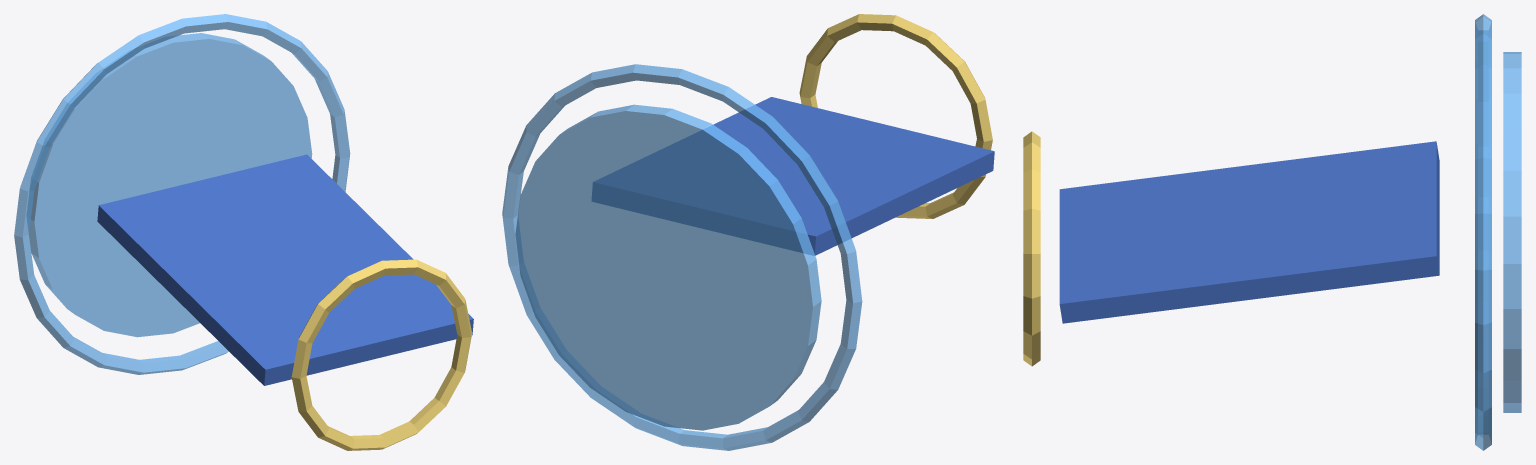
Rendered from armor_pickup_cape_rare.glb.
3 views of the same model, side by side, from view 1: azimuth 30°, elevation 25°; view 2: azimuth 150°, elevation 25°; view 3: azimuth 270°, elevation 25° (orthographic). The views are drawn at different scales.
Parts seen in each view (by area): view 1: cape_cloth, rarity_base_disc, rarity_orbit_ring, neck_ring; view 2: rarity_base_disc, cape_cloth, rarity_orbit_ring, neck_ring; view 3: cape_cloth, rarity_orbit_ring, rarity_base_disc, neck_ring.
Boxes of the visible parts, <box> form: cape_cloth: <box>97,154,473,385</box>; rarity_base_disc: <box>27,33,312,337</box>; rarity_orbit_ring: <box>14,14,350,374</box>; neck_ring: <box>291,259,471,450</box>; rarity_base_disc: <box>515,104,821,430</box>; cape_cloth: <box>592,97,994,255</box>; rarity_orbit_ring: <box>502,64,862,450</box>; neck_ring: <box>799,14,992,218</box>; cape_cloth: <box>1059,141,1439,323</box>; rarity_orbit_ring: <box>1475,14,1491,450</box>; rarity_base_disc: <box>1503,52,1521,412</box>; neck_ring: <box>1023,131,1040,366</box>.
Bounding box in the file's own units: 1.21 × 1.21 × 1.37.
